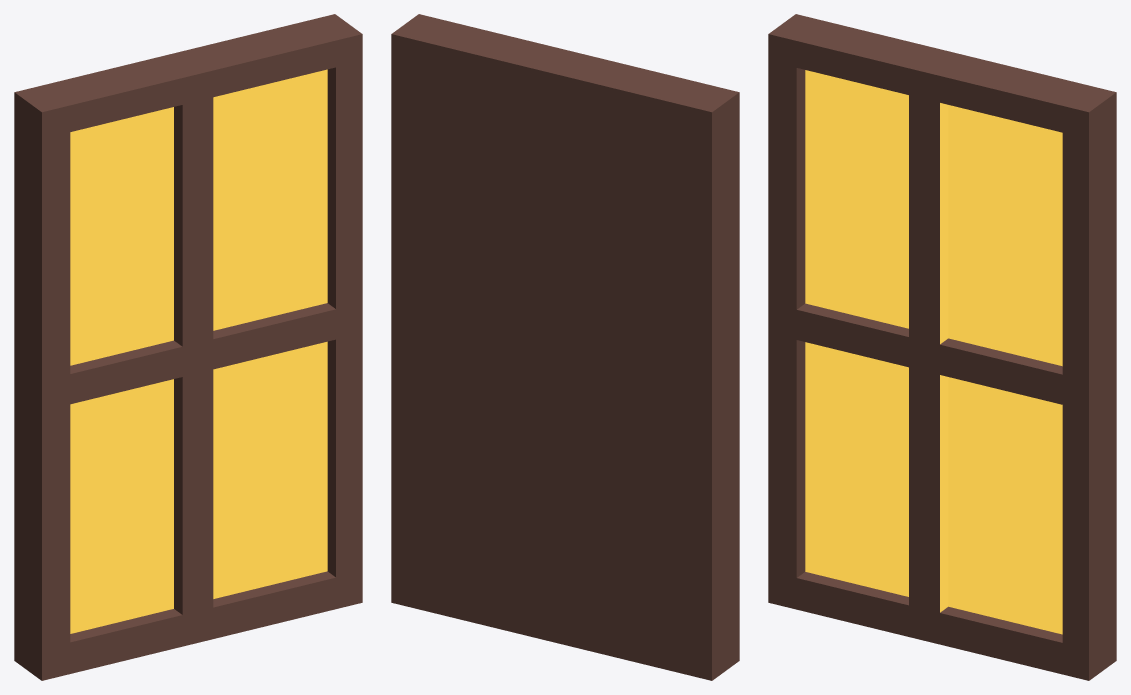
The picture shows the model from 3 angles, left to right: view 1: azimuth 30°, elevation 25°; view 2: azimuth 150°, elevation 25°; view 3: azimuth 330°, elevation 25°; orthographic projection.
Parts seen in each view (by area): view 1: Cube.008; view 2: Cube.008; view 3: Cube.008.
Part boxes in pixels (x1,y1,x2,y2): Cube.008: [14, 14, 362, 680]; Cube.008: [391, 14, 739, 680]; Cube.008: [768, 14, 1116, 680].
Bounding box in the file's own units: 0.1065 × 0.1804 × 0.0158.
